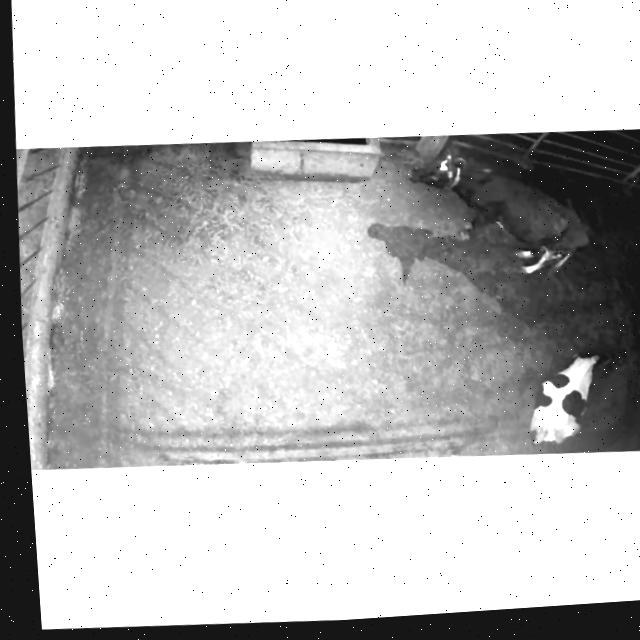stand: (397, 134, 603, 291)
